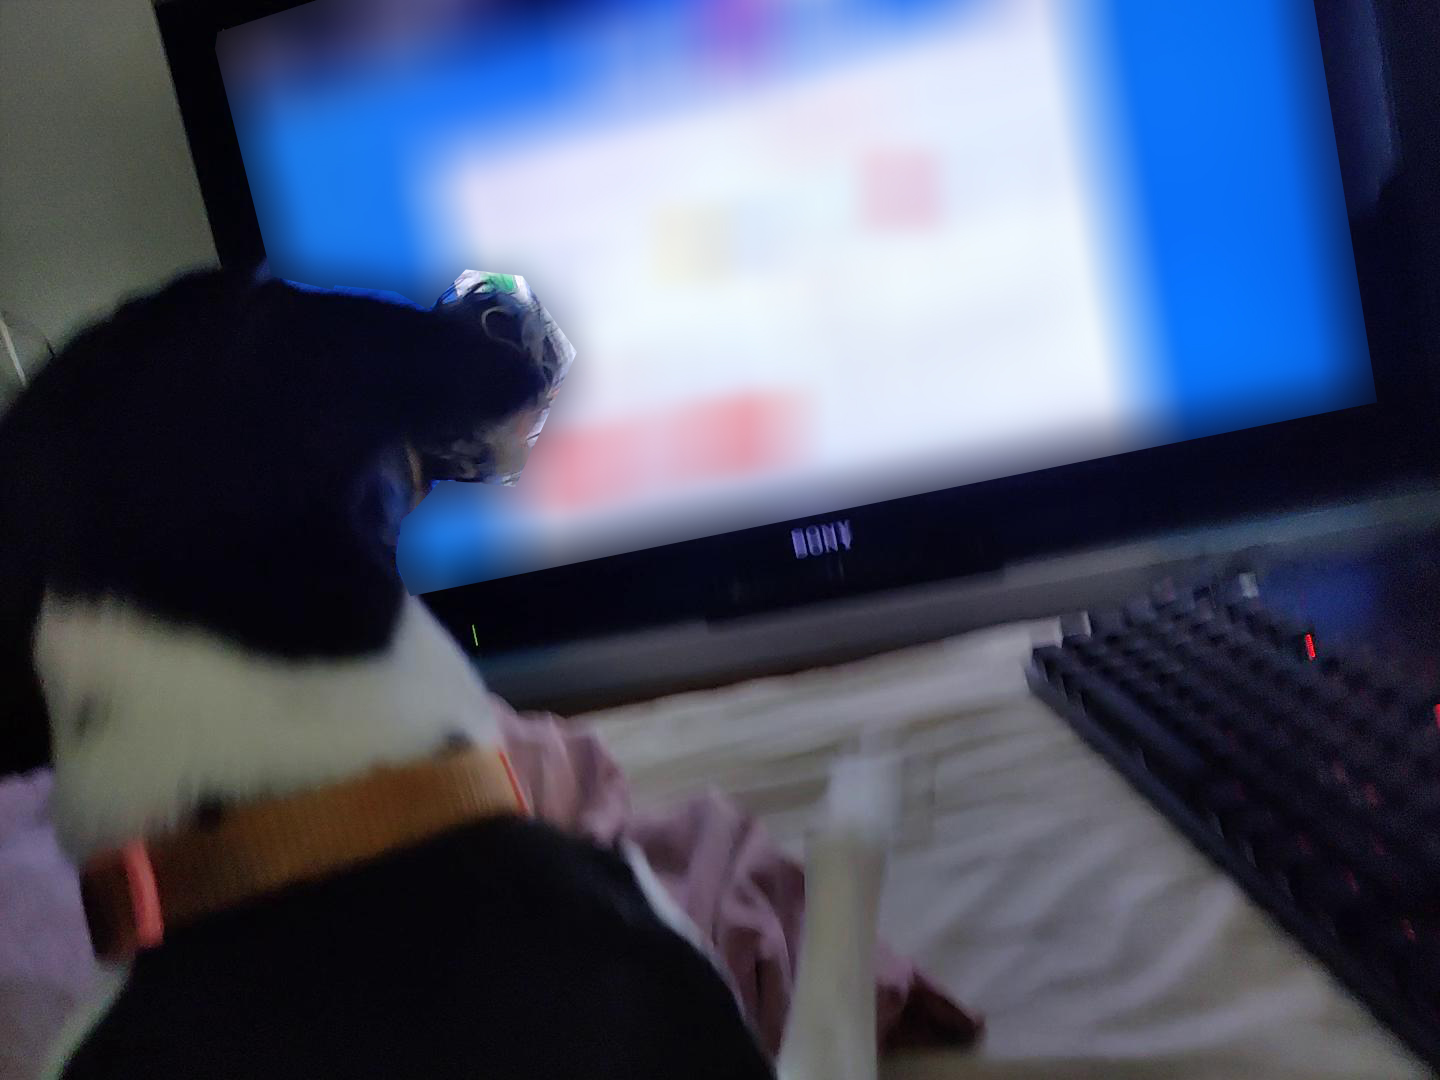Dog: (0, 252, 938, 1079)
